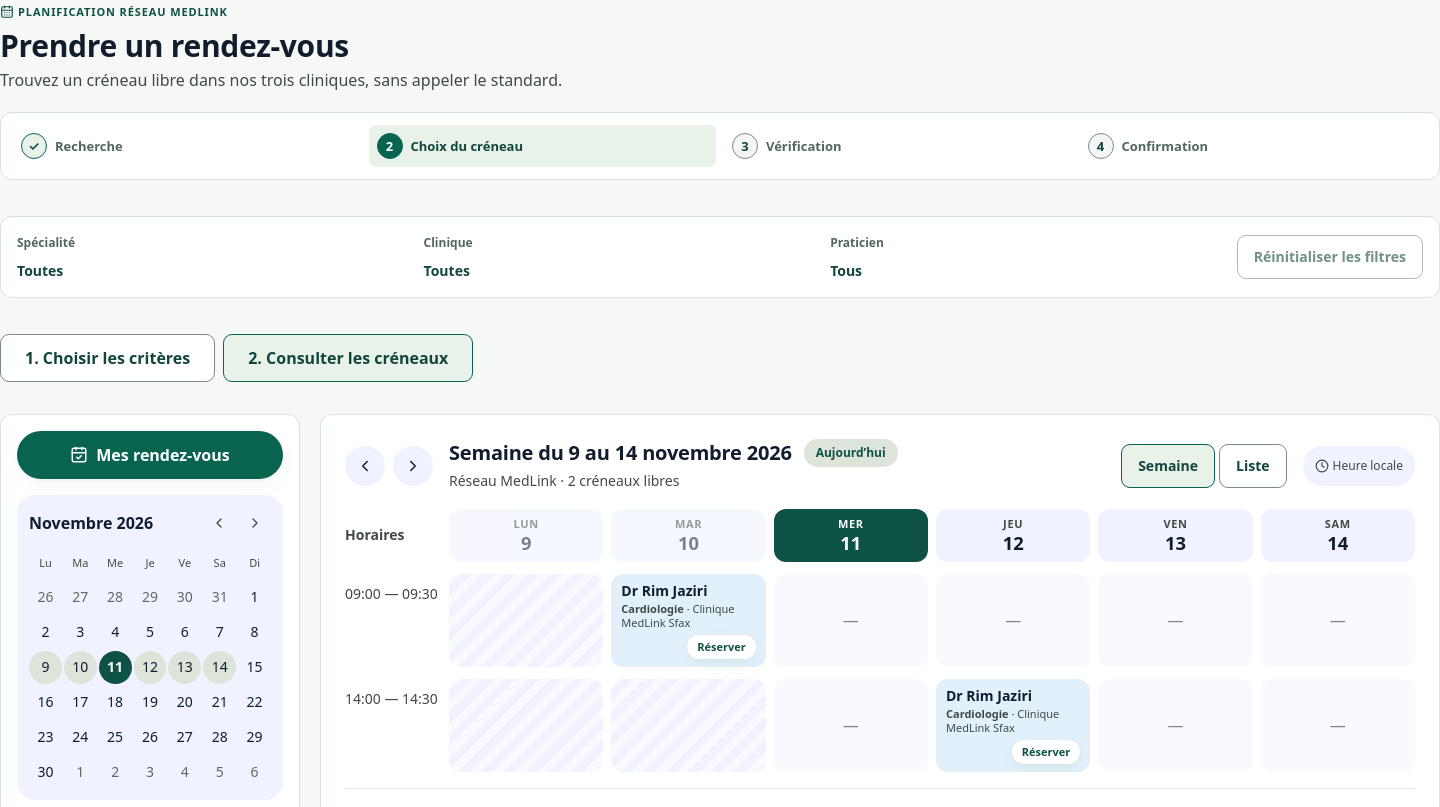
Test: choosing a slot asks to confirm it, with its day, time, practitioner and clinic
What coordinates should you click on to do the following:
click the 1st button "Réserver"
I would click on:
 (721, 647)
Its box is [687, 635, 756, 659].
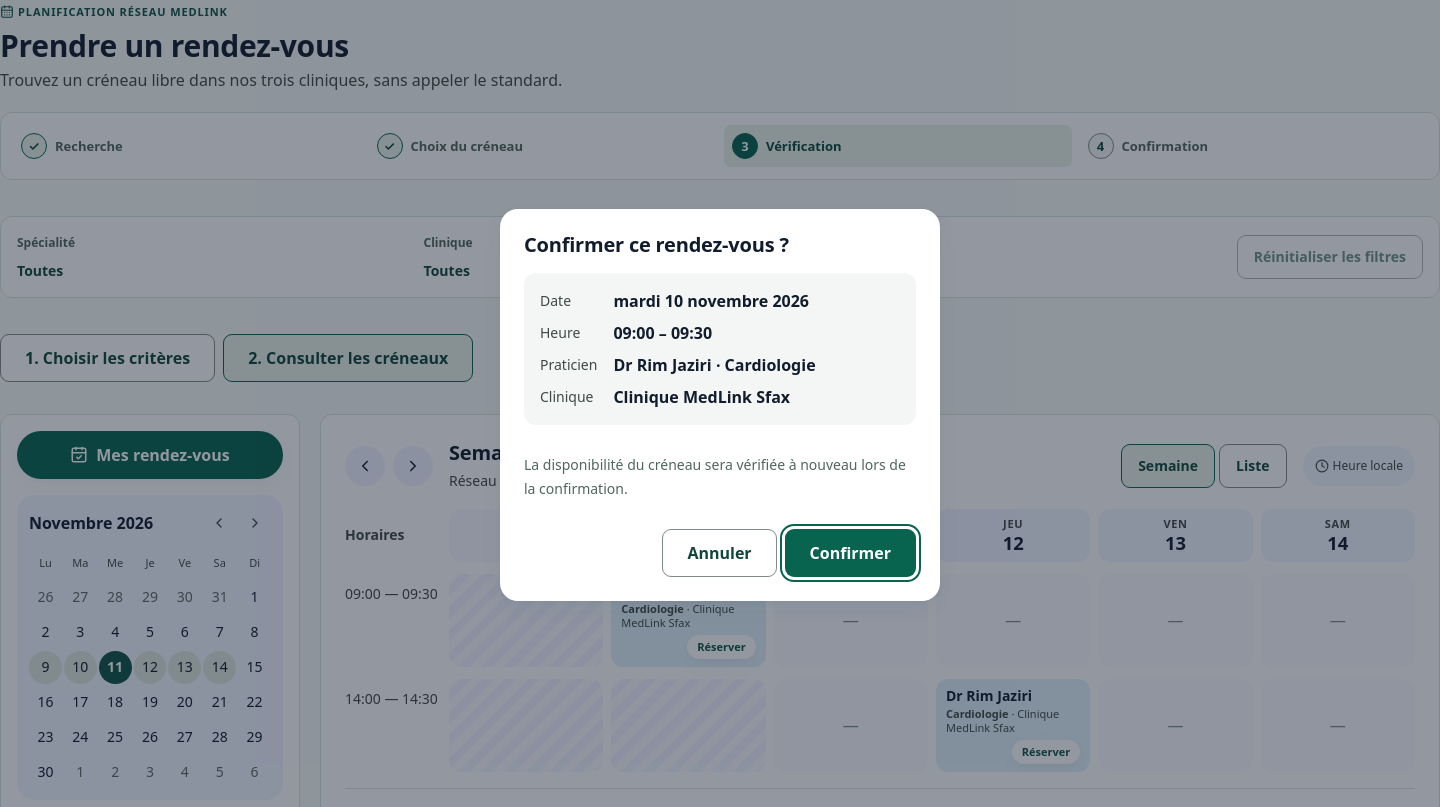
Expected: the text "mardi 10 novembre 2026" is shown, [613, 290, 809, 312]
Expected: the text "09:00 – 09:30" is shown, [613, 322, 712, 344]
Expected: the text "Dr Rim Jaziri · Cardiologie" is shown, [613, 354, 816, 376]
